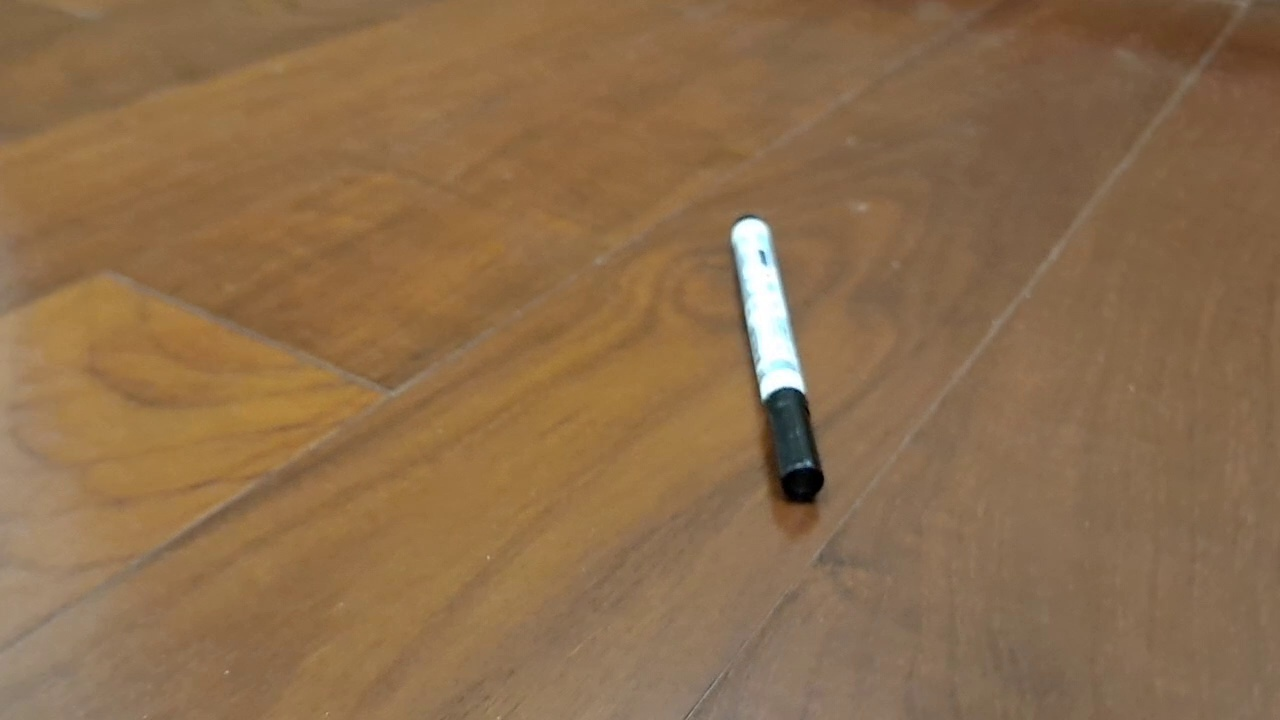pen: (729, 214, 824, 503)
